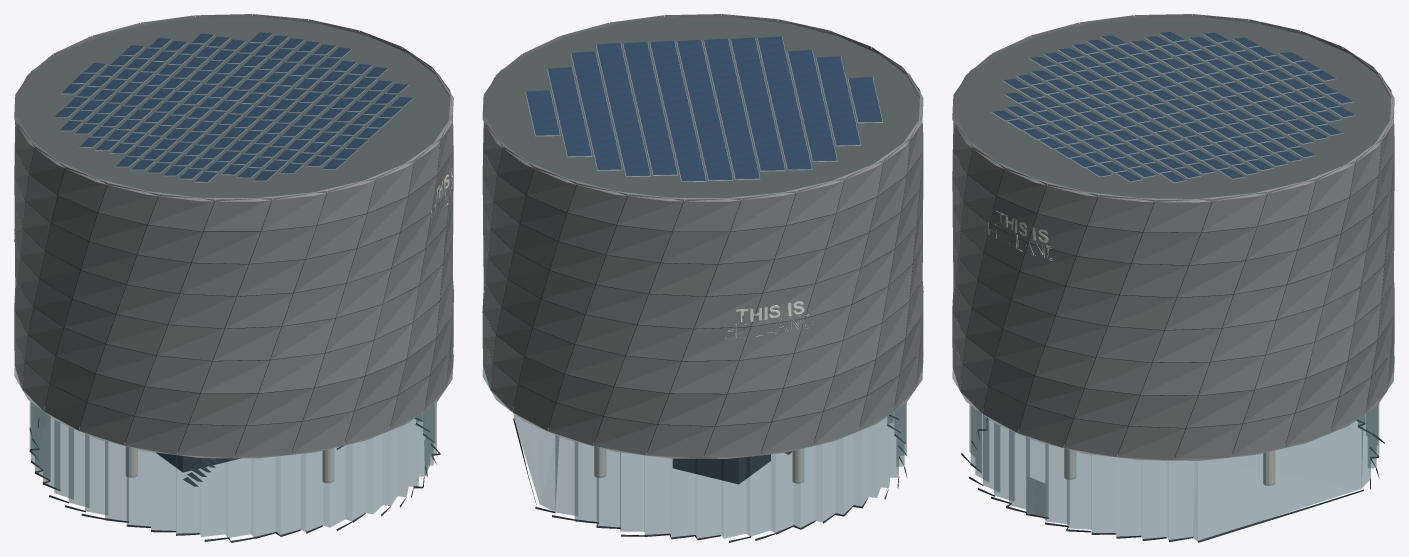
File: this-is-holland.lod1.glb
3 views of the same model, side by side, from view 1: azimuth 30°, elevation 25°; view 2: azimuth 150°, elevation 25°; view 3: azimuth 270°, elevation 25° (orthographic).
Parts seen in each view (by area): view 1: this-is-holland; view 2: this-is-holland; view 3: this-is-holland.
Boxes of the visible parts, x1,y1,x2,y2 form: this-is-holland: (14,14,453,542); this-is-holland: (482,14,923,542); this-is-holland: (952,14,1394,542).
Bounding box in the file's own units: 28.87 × 25.22 × 28.88.
